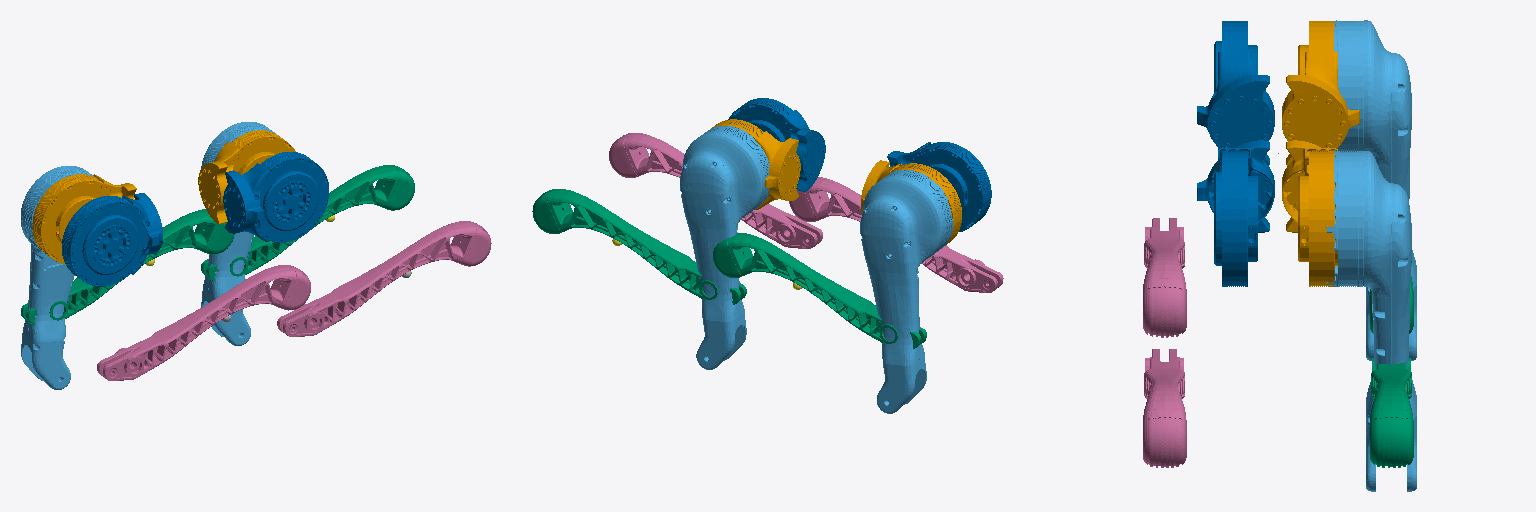
--- Facts derived from the render (not from the file) ---
Views: 3 orthographic renders of the robot side by side, from view 1: azimuth 30°, elevation 25°; view 2: azimuth 150°, elevation 25°; view 3: azimuth 270°, elevation 25°.
Robot: go2 — 20 links, 19 joints (12 revolute, 7 fixed); root link base; default pose: all joints at 0 but 4 set to mid-range because 0 is outside their limits (FR_calf_joint = -1.78, FL_calf_joint = -1.78, RR_calf_joint = -1.78, RL_calf_joint = -1.78).
Visible links, largest first — view 1: FR_hip, RR_hip, RR_calf, FR_calf, RL_thigh, FL_calf, RL_hip, RL_calf, FL_thigh, FL_hip; view 2: RL_thigh, FL_thigh, FL_calf, RL_calf, FR_calf, RR_calf, RR_hip, FR_hip, FL_hip, RL_hip; view 3: FL_thigh, RL_thigh, FR_hip, RR_hip, RL_hip, FL_hip, RR_calf, FR_calf, FL_calf.
Boxes of the visible links, x1,y1,x2,y2 form: FR_hip: [223, 152, 328, 242]; RR_hip: [62, 193, 162, 286]; RR_calf: [97, 265, 310, 380]; FR_calf: [277, 221, 491, 336]; RL_thigh: [21, 166, 95, 389]; FL_calf: [201, 165, 414, 280]; RL_hip: [32, 174, 136, 264]; RL_calf: [21, 209, 234, 324]; FL_thigh: [201, 122, 278, 345]; FL_hip: [198, 130, 295, 223]; RL_thigh: [860, 170, 953, 413]; FL_thigh: [680, 126, 769, 369]; FL_calf: [532, 189, 746, 304]; RL_calf: [713, 233, 926, 348]; FR_calf: [609, 133, 822, 248]; RR_calf: [789, 177, 1003, 292]; RR_hip: [887, 142, 991, 231]; FR_hip: [728, 98, 825, 191]; FL_hip: [711, 119, 800, 209]; RL_hip: [861, 160, 961, 245]; FL_thigh: [1326, 151, 1416, 491]; RL_thigh: [1334, 20, 1416, 360]; FR_hip: [1197, 140, 1274, 286]; RR_hip: [1197, 21, 1274, 165]; RL_hip: [1282, 21, 1359, 165]; FL_hip: [1282, 140, 1337, 286]; RR_calf: [1143, 218, 1186, 337]; FR_calf: [1143, 349, 1186, 467]; FL_calf: [1370, 358, 1413, 467].
Size in the robot's own frame: 0.8544 by 0.3435 by 0.4589 metres.
10 mesh visuals loaded from 6 distinct referenced files (3 Collada DAE); not drawn: 4 (reference not matched to a file when rendering).

URDF robot description (go2):
<?xml version="1.0" ?>
<!-- =================================================================================== -->
<!-- |    This document was autogenerated by xacro from robot.xacro                    | -->
<!-- |    EDITING THIS FILE BY HAND IS NOT RECOMMENDED                                 | -->
<!-- =================================================================================== -->
<robot name="go2">
  <material name="black">
    <color rgba="0.0 0.0 0.0 1.0"/>
  </material>
  <material name="blue">
    <color rgba="0.0 0.0 0.8 1.0"/>
  </material>
  <material name="green">
    <color rgba="0.0 0.8 0.0 1.0"/>
  </material>
  <material name="grey">
    <color rgba="0.2 0.2 0.2 0.0"/>
  </material>
  <material name="silver">
    <color rgba="0.9137254901960784 0.9137254901960784 0.8470588235294118 1.0"/>
  </material>
  <material name="orange">
    <color rgba="1.0 0.4235294117647059 0.0392156862745098 1.0"/>
  </material>
  <material name="brown">
    <color rgba="0.8705882352941177 0.8117647058823529 0.7647058823529411 1.0"/>
  </material>
  <material name="red">
    <color rgba="0.8 0.0 0.0 1.0"/>
  </material>
  <material name="white">
    <color rgba="1.0 1.0 1.0 1.0"/>
  </material>
  <!-- ros_control plugin -->
  <gazebo>
    <plugin filename="libgazebo_ros_control.so" name="gazebo_ros_control">
    <!--  <robotNamespace>/go2_gazebo</robotNamespace>
      <robotSimType>gazebo_ros_control/DefaultRobotHWSim</robotSimType> -->
    </plugin>
  </gazebo>
  <!-- Show the trajectory of trunk center. -->
  <!--gazebo>
        <plugin name="3dplot" filename="libLinkPlot3DPlugin.so">
            <frequency>10</frequency>
            <plot>
                <link>base</link>
                <pose>0 0 0 0 0 0</pose>
                <material>Gazebo/Yellow</material>
            </plot>
        </plugin>
    </gazebo-->
  <!-- Show the trajectory of foot. You can add another trajectory about another foot. 
  <gazebo>
    <plugin filename="libLinkPlot3DPlugin.so" name="3dplot">
      <frequency>100</frequency>
      <plot>
        <link>FL_foot</link>
        <pose>0 0 0 0 0 0</pose>
      </plot>
    </plugin>
  </gazebo> -->
  <gazebo>
    <plugin filename="libgazebo_ros_force.so" name="gazebo_ros_force">
      <bodyName>trunk</bodyName>
      <topicName>/apply_force/trunk</topicName>
    </plugin>
  </gazebo>
  <joint name="hokuyo_joint" type="fixed">
    <origin rpy="0 0 0" xyz="0.0 0.0 0.096"/>
    <parent link="trunk"/>
    <child link="hokuyo_frame"/>
  </joint>
  <link name="hokuyo_frame">
    <inertial>
      <mass value="0.270"/>
      <origin rpy="0 0 0" xyz="0 0 0"/>
      <inertia ixx="2.632e-4" ixy="0" ixz="0" iyy="2.632e-4" iyz="0" izz="1.62e-4"/>
    </inertial>
    <visual>
      <origin rpy="0 0 0" xyz="0 0 0"/>
      <geometry>
        <mesh filename="package://hector_sensors_description/meshes/hokuyo_utm30lx/hokuyo_utm_30lx.dae"/>
      </geometry>
    </visual>
    <collision>
      <origin rpy="0 0 0" xyz="0 0 -0.0115"/>
      <geometry>
        <box size="0.058 0.058 0.087"/>
        <!--<mesh filename="package://hector_sensors_description/meshes/hokuyo_utm30lx/hokuyo_utm_30lx.stl"/>-->
      </geometry>
    </collision>
  </link>
  <gazebo reference="hokuyo_frame">
    <sensor name="hokuyo" type="ray">
      <always_on>true</always_on>
      <update_rate>30</update_rate>
      <pose>0 0 0 0 0 0</pose>
      <visualize>false</visualize>
      <ray>
        <scan>
          <horizontal>
            <samples>1040</samples>
            <resolution>1</resolution>
            <min_angle>2.26892802759</min_angle>
            <max_angle>-2.26892802759</max_angle>
          </horizontal>
        </scan>
        <range>
          <min>0.2</min>
          <max>30.0</max>
          <resolution>0.01</resolution>
        </range>
        <noise>
          <type>gaussian</type>
          <mean>0.0</mean>
          <stddev>0.004</stddev>
        </noise>
      </ray>
      <plugin filename="libgazebo_ros_laser.so" name="gazebo_ros_hokuyo_controller">
        <topicName>scan</topicName>
        <frameName>hokuyo_frame</frameName>
      </plugin>
    </sensor>
  </gazebo>
  <gazebo reference="imu_link">
    <gravity>true</gravity>
    <sensor name="imu_sensor" type="imu">
      <always_on>true</always_on>
      <update_rate>1000</update_rate>
      <visualize>true</visualize>
      <topic>__default_topic__</topic>
      <plugin filename="libgazebo_ros_imu_sensor.so" name="imu_plugin">
        <topicName>trunk_imu</topicName>
        <bodyName>imu_link</bodyName>
        <updateRateHZ>1000.0</updateRateHZ>
        <gaussianNoise>0.0</gaussianNoise>
        <xyzOffset>0 0 0</xyzOffset>
        <rpyOffset>0 0 0</rpyOffset>
        <frameName>imu_link</frameName>
      </plugin>
      <pose>0 0 0 0 0 0</pose>
    </sensor>
  </gazebo>
  <!-- Foot contacts. -->
  <gazebo reference="FR_calf">
    <sensor name="FR_foot_contact" type="contact">
      <update_rate>100</update_rate>
      <plugin filename="libunitreeFootContactPlugin.so" name="contactPlugin"/>
      <contact>
        <collision>FR_calf_fixed_joint_lump__FR_foot_collision_1</collision>
      </contact>
    </sensor>
  </gazebo>
  <gazebo reference="FL_calf">
    <sensor name="FL_foot_contact" type="contact">
      <update_rate>100</update_rate>
      <plugin filename="libunitreeFootContactPlugin.so" name="contactPlugin"/>
      <contact>
        <collision>FL_calf_fixed_joint_lump__FL_foot_collision_1</collision>
      </contact>
    </sensor>
  </gazebo>
  <gazebo reference="RR_calf">
    <sensor name="RR_foot_contact" type="contact">
      <update_rate>100</update_rate>
      <plugin filename="libunitreeFootContactPlugin.so" name="contactPlugin"/>
      <contact>
        <collision>RR_calf_fixed_joint_lump__RR_foot_collision_1</collision>
      </contact>
    </sensor>
  </gazebo>
  <gazebo reference="RL_calf">
    <sensor name="RL_foot_contact" type="contact">
      <update_rate>100</update_rate>
      <plugin filename="libunitreeFootContactPlugin.so" name="contactPlugin"/>
      <contact>
        <collision>RL_calf_fixed_joint_lump__RL_foot_collision_1</collision>
      </contact>
    </sensor>
  </gazebo>
  <!-- Visualization of Foot contacts. -->
  <gazebo reference="FR_foot">
    <visual>
      <plugin filename="libunitreeDrawForcePlugin.so" name="drawForcePlugin">
        <topicName>FR_foot_contact</topicName>
      </plugin>
    </visual>
  </gazebo>
  <gazebo reference="FL_foot">
    <visual>
      <plugin filename="libunitreeDrawForcePlugin.so" name="drawForcePlugin">
        <topicName>FL_foot_contact</topicName>
      </plugin>
    </visual>
  </gazebo>
  <gazebo reference="RR_foot">
    <visual>
      <plugin filename="libunitreeDrawForcePlugin.so" name="drawForcePlugin">
        <topicName>RR_foot_contact</topicName>
      </plugin>
    </visual>
  </gazebo>
  <gazebo reference="RL_foot">
    <visual>
      <plugin filename="libunitreeDrawForcePlugin.so" name="drawForcePlugin">
        <topicName>RL_foot_contact</topicName>
      </plugin>
    </visual>
  </gazebo>
  <gazebo reference="base">
    <turnGravityOff>false</turnGravityOff>
  </gazebo>
  <gazebo reference="trunk">
    <mu1>0.2</mu1>
    <mu2>0.2</mu2>
    <kp value="1000000.0"/>
    <kd value="1.0"/>
  </gazebo>
  <gazebo reference="stick_link">
    <mu1>0.2</mu1>
    <mu2>0.2</mu2>
  </gazebo>
  <gazebo reference="imu_link">
    <mu1>0.2</mu1>
    <mu2>0.2</mu2>
  </gazebo>
  <!-- FL leg -->
  <gazebo reference="FL_hip">
    <mu1>0.2</mu1>
    <mu2>0.2</mu2>
  </gazebo>
  <gazebo reference="FL_thigh">
    <mu1>0.2</mu1>
    <mu2>0.2</mu2>
    <self_collide>1</self_collide>
    <kp value="1000000.0"/>
    <kd value="1.0"/>
  </gazebo>
  <gazebo reference="FL_calf">
    <mu1>0.2</mu1>
    <mu2>0.2</mu2>
    <self_collide>1</self_collide>
  </gazebo>
  <gazebo reference="FL_foot">
    <mu1>0.6</mu1>
    <mu2>0.6</mu2>
    <self_collide>1</self_collide>
    <kp value="1000000.0"/>
    <kd value="1.0"/>
  </gazebo>
  <!-- FR leg -->
  <gazebo reference="FR_hip">
    <mu1>0.2</mu1>
    <mu2>0.2</mu2>
  </gazebo>
  <gazebo reference="FR_thigh">
    <mu1>0.2</mu1>
    <mu2>0.2</mu2>
    <self_collide>1</self_collide>
    <kp value="1000000.0"/>
    <kd value="1.0"/>
  </gazebo>
  <gazebo reference="FR_calf">
    <mu1>0.2</mu1>
    <mu2>0.2</mu2>
    <self_collide>1</self_collide>
  </gazebo>
  <gazebo reference="FR_foot">
    <mu1>0.6</mu1>
    <mu2>0.6</mu2>
    <self_collide>1</self_collide>
    <kp value="1000000.0"/>
    <kd value="1.0"/>
  </gazebo>
  <!-- RL leg -->
  <gazebo reference="RL_hip">
    <mu1>0.2</mu1>
    <mu2>0.2</mu2>
  </gazebo>
  <gazebo reference="RL_thigh">
    <mu1>0.2</mu1>
    <mu2>0.2</mu2>
    <self_collide>1</self_collide>
    <kp value="1000000.0"/>
    <kd value="1.0"/>
  </gazebo>
  <gazebo reference="RL_calf">
    <mu1>0.2</mu1>
    <mu2>0.2</mu2>
    <self_collide>1</self_collide>
  </gazebo>
  <gazebo reference="RL_foot">
    <mu1>0.6</mu1>
    <mu2>0.6</mu2>
    <self_collide>1</self_collide>
    <kp value="1000000.0"/>
    <kd value="1.0"/>
  </gazebo>
  <!-- RR leg -->
  <gazebo reference="RR_hip">
    <mu1>0.2</mu1>
    <mu2>0.2</mu2>
  </gazebo>
  <gazebo reference="RR_thigh">
    <mu1>0.2</mu1>
    <mu2>0.2</mu2>
    <self_collide>1</self_collide>
    <kp value="1000000.0"/>
    <kd value="1.0"/>
  </gazebo>
  <gazebo reference="RR_calf">
    <mu1>0.2</mu1>
    <mu2>0.2</mu2>
    <self_collide>1</self_collide>
  </gazebo>
  <gazebo reference="RR_foot">
    <mu1>0.6</mu1>
    <mu2>0.6</mu2>
    <self_collide>1</self_collide>
    <kp value="1000000.0"/>
    <kd value="1.0"/>
  </gazebo>
  <!-- <xacro:include filename="$(find go2_gazebo)/launch/stairs.urdf.xacro"/> -->
  <!-- <xacro:stairs stairs="15" xpos="0" ypos="0" zpos="0" /> -->
  <!-- Rotor related joint and link is only for demonstrate location. -->
  <!-- Actually, the rotor will rotate and the joint is not fixed. Reduction ratio should be considered. -->
  <link name="base">
    <visual>
      <origin rpy="0 0 0" xyz="0 0 0"/>
      <geometry>
        <box size="0.001 0.001 0.001"/>
      </geometry>
    </visual>
  </link>
  <joint name="floating_base" type="fixed">
    <origin rpy="0 0 0" xyz="0 0 0"/>
    <parent link="base"/>
    <child link="trunk"/>
  </joint>
  <link name="trunk">
    <visual>
      <origin rpy="0 0 0" xyz="0 0 0"/>
      <geometry>
        <mesh filename="package://go2_description/meshes/trunk.dae" scale="1 1 1"/>
      </geometry>
      <!-- <material name="orange"/> -->
    </visual>
    <collision>
      <origin rpy="0 0 0" xyz="0 0 0"/>
      <geometry>
        <box size="0.3762 0.0935 0.114"/>
      </geometry>
    </collision>
    <inertial>
      <origin rpy="0 0 0" xyz="0.021112 0.0 -0.005366"/>
      <mass value="6.921"/>
      <inertia ixx="0.02448" ixy="0.00012166" ixz="0.0014849" iyy="0.098077" iyz="-3.12e-05" izz="0.107"/>
    </inertial>
  </link>
  <joint name="imu_joint" type="fixed">
    <parent link="trunk"/>
    <child link="imu_link"/>
    <origin rpy="0 0 0" xyz="0 0 0"/>
  </joint>
  <link name="imu_link">
    <inertial>
      <mass value="0.001"/>
      <origin rpy="0 0 0" xyz="0 0 0"/>
      <inertia ixx="0.0001" ixy="0" ixz="0" iyy="0.0001" iyz="0" izz="0.0001"/>
    </inertial>
    <visual>
      <origin rpy="0 0 0" xyz="0 0 0"/>
      <geometry>
        <box size="0.001 0.001 0.001"/>
      </geometry>
      <!-- <material name="red"/> -->
    </visual>
    <collision>
      <origin rpy="0 0 0" xyz="0 0 0"/>
      <geometry>
        <box size=".001 .001 .001"/>
      </geometry>
    </collision>
  </link>
  <joint name="FR_hip_joint" type="revolute">
    <origin rpy="0 0 0" xyz="0.1934 -0.0465 0"/>
    <parent link="trunk"/>
    <child link="FR_hip"/>
    <axis xyz="1 0 0"/>
    <dynamics damping="0.01" friction="0.2"/>
    <limit effort="23.7" lower="-1.0472" upper="1.0472" velocity="30.1"/>
  </joint>
  <link name="FR_hip">
    <visual>
      <origin rpy="3.141592653589793 0 0" xyz="0 0 0"/>
      <geometry>
        <mesh filename="package://go2_description/meshes/hip.dae" scale="1 1 1"/>
      </geometry>
      <!-- <material name="orange"/> -->
    </visual>
    <collision>
      <origin rpy="1.5707963267948966 0 0" xyz="0 -0.0955 0"/>
      <geometry>
        <cylinder length="0.04" radius="0.046"/>
      </geometry>
    </collision>
    <inertial>
      <origin rpy="0 0 0" xyz="-0.0054 -0.00194 -0.000105"/>
      <mass value="0.678"/>
      <inertia ixx="0.00048" ixy="3.01e-06" ixz="1.11e-06" iyy="0.000884" iyz="1.42e-06" izz="0.000596"/>
    </inertial>
  </link>
  <joint name="FR_thigh_joint" type="revolute">
    <origin rpy="0 0 0" xyz="0 -0.0955 0"/>
    <parent link="FR_hip"/>
    <child link="FR_thigh"/>
    <axis xyz="0 1 0"/>
    <dynamics damping="0.01" friction="0.2"/>
    <limit effort="23.7" lower="-1.5708" upper="3.4907" velocity="30.1"/>
  </joint>
  <link name="FR_thigh">
    <visual>
      <origin rpy="0 0 0" xyz="0 0 0"/>
      <geometry>
        <mesh filename="package://go2_description/meshes/thigh_mirror.dae" scale="1 1 1"/>
      </geometry>
      <!-- <material name="orange"/> -->
    </visual>
    <collision>
      <origin rpy="0 1.5707963267948966 0" xyz="0 0 -0.1065"/>
      <geometry>
        <box size="0.213 0.0245 0.034"/>
      </geometry>
    </collision>
    <inertial>
      <origin rpy="0 0 0" xyz="-0.00374 0.0223 -0.0327"/>
      <mass value="1.152"/>
      <inertia ixx="0.00584" ixy="-8.72e-05" ixz="-0.000289" iyy="0.0058" iyz="-0.000808" izz="0.00103"/>
    </inertial>
  </link>
  <joint name="FR_calf_joint" type="revolute">
    <origin rpy="0 0 0" xyz="0 0 -0.213"/>
    <parent link="FR_thigh"/>
    <child link="FR_calf"/>
    <axis xyz="0 1 0"/>
    <dynamics damping="0.01" friction="0.2"/>
    <limit effort="35.55" lower="-2.7227" upper="-0.83776" velocity="20.06"/>
  </joint>
  <link name="FR_calf">
    <visual>
      <origin rpy="0 0 0" xyz="0 0 0"/>
      <geometry>
        <mesh filename="package://go2_description/meshes/calf.dae" scale="1 1 1"/>
      </geometry>
      <!-- <material name="orange"/> -->
    </visual>
    <collision>
      <origin rpy="0 1.5707963267948966 0" xyz="0 0 -0.1065"/>
      <geometry>
        <box size="0.213 0.016 0.016"/>
      </geometry>
    </collision>
    <inertial>
      <origin rpy="0 0 0" xyz="0.00548 -0.000975 -0.115"/>
      <mass value="0.154"/>
      <inertia ixx="0.00108" ixy="3.4e-07" ixz="1.72e-05" iyy="0.0011" iyz="8.28e-06" izz="3.29e-05"/>
    </inertial>
  </link>
  <joint name="FR_foot_fixed" type="fixed">
    0
            
    <origin rpy="0 0 0" xyz="0 0 -0.213"/>
    <parent link="FR_calf"/>
    <child link="FR_foot"/>
  </joint>
  <link name="FR_foot">
    <visual>
      <origin rpy="0 0 0" xyz="0 0 0"/>
      <geometry>
        <sphere radius="0.01"/>
      </geometry>
      <!-- <material name="orange"/> -->
    </visual>
    <collision>
      <origin rpy="0 0 0" xyz="0 0 0"/>
      <geometry>
        <sphere radius="0.02"/>
      </geometry>
    </collision>
    <inertial>
      <mass value="0.06"/>
      <inertia ixx="9.600000000000001e-06" ixy="0.0" ixz="0.0" iyy="9.600000000000001e-06" iyz="0.0" izz="9.600000000000001e-06"/>
    </inertial>
  </link>
  <transmission name="FR_hip_tran">
    <type>transmission_interface/SimpleTransmission</type>
    <joint name="FR_hip_joint">
      <hardwareInterface>hardware_interface/EffortJointInterface</hardwareInterface>
    </joint>
    <actuator name="FR_hip_motor">
      <hardwareInterface>hardware_interface/EffortJointInterface</hardwareInterface>
      <mechanicalReduction>1</mechanicalReduction>
    </actuator>
  </transmission>
  <transmission name="FR_thigh_tran">
    <type>transmission_interface/SimpleTransmission</type>
    <joint name="FR_thigh_joint">
      <hardwareInterface>hardware_interface/EffortJointInterface</hardwareInterface>
    </joint>
    <actuator name="FR_thigh_motor">
      <hardwareInterface>hardware_interface/EffortJointInterface</hardwareInterface>
      <mechanicalReduction>1</mechanicalReduction>
    </actuator>
  </transmission>
  <transmission name="FR_calf_tran">
    <type>transmission_interface/SimpleTransmission</type>
    <joint name="FR_calf_joint">
      <hardwareInterface>hardware_interface/EffortJointInterface</hardwareInterface>
    </joint>
    <actuator name="FR_calf_motor">
      <hardwareInterface>hardware_interface/EffortJointInterface</hardwareInterface>
      <mechanicalReduction>1</mechanicalReduction>
    </actuator>
  </transmission>
  <joint name="FL_hip_joint" type="revolute">
    <origin rpy="0 0 0" xyz="0.1934 0.0465 0"/>
    <parent link="trunk"/>
    <child link="FL_hip"/>
    <axis xyz="1 0 0"/>
    <dynamics damping="0.01" friction="0.2"/>
    <limit effort="23.7" lower="-1.0472" upper="1.0472" velocity="30.1"/>
  </joint>
  <link name="FL_hip">
    <visual>
      <origin rpy="0 0 0" xyz="0 0 0"/>
      <geometry>
        <mesh filename="package://go2_description/meshes/hip.dae" scale="1 1 1"/>
      </geometry>
      <!-- <material name="orange"/> -->
    </visual>
    <collision>
      <origin rpy="1.5707963267948966 0 0" xyz="0 0.0955 0"/>
      <geometry>
        <cylinder length="0.04" radius="0.046"/>
      </geometry>
    </collision>
    <inertial>
      <origin rpy="0 0 0" xyz="-0.0054 0.00194 -0.000105"/>
      <mass value="0.678"/>
      <inertia ixx="0.00048" ixy="-3.01e-06" ixz="1.11e-06" iyy="0.000884" iyz="-1.42e-06" izz="0.000596"/>
    </inertial>
  </link>
  <joint name="FL_thigh_joint" type="revolute">
    <origin rpy="0 0 0" xyz="0 0.0955 0"/>
    <parent link="FL_hip"/>
    <child link="FL_thigh"/>
    <axis xyz="0 1 0"/>
    <dynamics damping="0.01" friction="0.2"/>
    <limit effort="23.7" lower="-1.5708" upper="3.4907" velocity="30.1"/>
  </joint>
  <link name="FL_thigh">
    <visual>
      <origin rpy="0 0 0" xyz="0 0 0"/>
      <geometry>
        <mesh filename="package://go2_description/meshes/thigh.dae" scale="1 1 1"/>
      </geometry>
      <!-- <material name="orange"/> -->
    </visual>
    <collision>
      <origin rpy="0 1.5707963267948966 0" xyz="0 0 -0.1065"/>
      <geometry>
        <box size="0.213 0.0245 0.034"/>
      </geometry>
    </collision>
    <inertial>
      <origin rpy="0 0 0" xyz="-0.00374 -0.0223 -0.0327"/>
      <mass value="1.152"/>
      <inertia ixx="0.00584" ixy="8.72e-05" ixz="-0.000289" iyy="0.0058" iyz="0.000808" izz="0.00103"/>
    </inertial>
  </link>
  <joint name="FL_calf_joint" type="revolute">
    <origin rpy="0 0 0" xyz="0 0 -0.213"/>
    <parent link="FL_thigh"/>
    <child link="FL_calf"/>
    <axis xyz="0 1 0"/>
    <dynamics damping="0.01" friction="0.2"/>
    <limit effort="35.55" lower="-2.7227" upper="-0.83776" velocity="20.06"/>
  </joint>
  <link name="FL_calf">
    <visual>
      <origin rpy="0 0 0" xyz="0 0 0"/>
      <geometry>
        <mesh filename="package://go2_description/meshes/calf.dae" scale="1 1 1"/>
      </geometry>
      <!-- <material name="orange"/> -->
    </visual>
    <collision>
      <origin rpy="0 1.5707963267948966 0" xyz="0 0 -0.1065"/>
      <geometry>
        <box size="0.213 0.016 0.016"/>
      </geometry>
    </collision>
    <inertial>
      <origin rpy="0 0 0" xyz="0.00548 -0.000975 -0.115"/>
      <mass value="0.154"/>
      <inertia ixx="0.00108" ixy="3.4e-07" ixz="1.72e-05" iyy="0.0011" iyz="8.28e-06" izz="3.29e-05"/>
    </inertial>
  </link>
  <joint name="FL_foot_fixed" type="fixed">
    0
            
    <origin rpy="0 0 0" xyz="0 0 -0.213"/>
    <parent link="FL_calf"/>
    <child link="FL_foot"/>
  </joint>
  <link name="FL_foot">
    <visual>
      <origin rpy="0 0 0" xyz="0 0 0"/>
      <geometry>
        <sphere radius="0.01"/>
      </geometry>
      <!-- <material name="orange"/> -->
    </visual>
    <collision>
      <origin rpy="0 0 0" xyz="0 0 0"/>
      <geometry>
        <sphere radius="0.02"/>
      </geometry>
    </collision>
    <inertial>
      <mass value="0.06"/>
      <inertia ixx="9.600000000000001e-06" ixy="0.0" ixz="0.0" iyy="9.600000000000001e-06" iyz="0.0" izz="9.600000000000001e-06"/>
    </inertial>
  </link>
  <transmission name="FL_hip_tran">
    <type>transmission_interface/SimpleTransmission</type>
    <joint name="FL_hip_joint">
      <hardwareInterface>hardware_interface/EffortJointInterface</hardwareInterface>
    </joint>
    <actuator name="FL_hip_motor">
      <hardwareInterface>hardware_interface/EffortJointInterface</hardwareInterface>
      <mechanicalReduction>1</mechanicalReduction>
    </actuator>
  </transmission>
  <transmission name="FL_thigh_tran">
    <type>transmission_interface/SimpleTransmission</type>
    <joint name="FL_thigh_joint">
      <hardwareInterface>hardware_interface/EffortJointInterface</hardwareInterface>
    </joint>
    <actuator name="FL_thigh_motor">
      <hardwareInterface>hardware_interface/EffortJointInterface</hardwareInterface>
      <mechanicalReduction>1</mechanicalReduction>
    </actuator>
  </transmission>
  <transmission name="FL_calf_tran">
    <type>transmission_interface/SimpleTransmission</type>
    <joint name="FL_calf_joint">
      <hardwareInterface>hardware_interface/EffortJointInterface</hardwareInterface>
    </joint>
    <actuator name="FL_calf_motor">
      <hardwareInterface>hardware_interface/EffortJointInterface</hardwareInterface>
      <mechanicalReduction>1</mechanicalReduction>
    </actuator>
  </transmission>
  <joint name="RR_hip_joint" type="revolute">
    <origin rpy="0 0 0" xyz="-0.1934 -0.0465 0"/>
    <parent link="trunk"/>
    <child link="RR_hip"/>
    <axis xyz="1 0 0"/>
    <dynamics damping="0.01" friction="0.2"/>
    <limit effort="23.7" lower="-1.0472" upper="1.0472" velocity="30.1"/>
  </joint>
  <link name="RR_hip">
    <visual>
      <origin rpy="3.141592653589793 3.141592653589793 0" xyz="0 0 0"/>
      <geometry>
        <mesh filename="package://go2_description/meshes/hip.dae" scale="1 1 1"/>
      </geometry>
      <!-- <material name="orange"/> -->
    </visual>
    <collision>
      <origin rpy="1.5707963267948966 0 0" xyz="0 -0.0955 0"/>
      <geometry>
        <cylinder length="0.04" radius="0.046"/>
      </geometry>
    </collision>
    <inertial>
      <origin rpy="0 0 0" xyz="0.0054 -0.00194 -0.000105"/>
      <mass value="0.678"/>
      <inertia ixx="0.00048" ixy="-3.01e-06" ixz="-1.11e-06" iyy="0.000884" iyz="1.42e-06" izz="0.000596"/>
    </inertial>
  </link>
  <joint name="RR_thigh_joint" type="revolute">
    <origin rpy="0 0 0" xyz="0 -0.0955 0"/>
    <parent link="RR_hip"/>
    <child link="RR_thigh"/>
    <axis xyz="0 1 0"/>
    <dynamics damping="0.01" friction="0.2"/>
    <limit effort="23.7" lower="-1.5708" upper="3.4907" velocity="30.1"/>
  </joint>
  <link name="RR_thigh">
    <visual>
      <origin rpy="0 0 0" xyz="0 0 0"/>
      <geometry>
        <mesh filename="package://go2_description/meshes/thigh_mirror.dae" scale="1 1 1"/>
      </geometry>
      <!-- <material name="orange"/> -->
    </visual>
    <collision>
      <origin rpy="0 1.5707963267948966 0" xyz="0 0 -0.1065"/>
      <geometry>
        <box size="0.213 0.0245 0.034"/>
      </geometry>
    </collision>
    <inertial>
      <origin rpy="0 0 0" xyz="-0.00374 0.0223 -0.0327"/>
      <mass value="1.152"/>
      <inertia ixx="0.00584" ixy="-8.72e-05" ixz="-0.000289" iyy="0.0058" iyz="-0.000808" izz="0.00103"/>
    </inertial>
  </link>
  <joint name="RR_calf_joint" type="revolute">
    <origin rpy="0 0 0" xyz="0 0 -0.213"/>
    <parent link="RR_thigh"/>
    <child link="RR_calf"/>
    <axis xyz="0 1 0"/>
    <dynamics damping="0.01" friction="0.2"/>
    <limit effort="35.55" lower="-2.7227" upper="-0.83776" velocity="20.06"/>
  </joint>
  <link name="RR_calf">
    <visual>
      <origin rpy="0 0 0" xyz="0 0 0"/>
      <geometry>
        <mesh filename="package://go2_description/meshes/calf.dae" scale="1 1 1"/>
      </geometry>
      <!-- <material name="orange"/> -->
    </visual>
    <collision>
      <origin rpy="0 1.5707963267948966 0" xyz="0 0 -0.1065"/>
      <geometry>
        <box size="0.213 0.016 0.016"/>
      </geometry>
    </collision>
    <inertial>
      <origin rpy="0 0 0" xyz="0.00548 -0.000975 -0.115"/>
      <mass value="0.154"/>
      <inertia ixx="0.00108" ixy="3.4e-07" ixz="1.72e-05" iyy="0.0011" iyz="8.28e-06" izz="3.29e-05"/>
    </inertial>
  </link>
  <joint name="RR_foot_fixed" type="fixed">
    0
            
    <origin rpy="0 0 0" xyz="0 0 -0.213"/>
    <parent link="RR_calf"/>
    <child link="RR_foot"/>
  </joint>
  <link name="RR_foot">
    <visual>
      <origin rpy="0 0 0" xyz="0 0 0"/>
      <geometry>
        <sphere radius="0.01"/>
      </geometry>
      <!-- <material name="orange"/> -->
    </visual>
    <collision>
      <origin rpy="0 0 0" xyz="0 0 0"/>
      <geometry>
        <sphere radius="0.02"/>
      </geometry>
    </collision>
    <inertial>
      <mass value="0.06"/>
      <inertia ixx="9.600000000000001e-06" ixy="0.0" ixz="0.0" iyy="9.600000000000001e-06" iyz="0.0" izz="9.600000000000001e-06"/>
    </inertial>
  </link>
  <transmission name="RR_hip_tran">
    <type>transmission_interface/SimpleTransmission</type>
    <joint name="RR_hip_joint">
      <hardwareInterface>hardware_interface/EffortJointInterface</hardwareInterface>
    </joint>
    <actuator name="RR_hip_motor">
      <hardwareInterface>hardware_interface/EffortJointInterface</hardwareInterface>
      <mechanicalReduction>1</mechanicalReduction>
    </actuator>
  </transmission>
  <transmission name="RR_thigh_tran">
    <type>transmission_interface/SimpleTransmission</type>
    <joint name="RR_thigh_joint">
      <hardwareInterface>hardware_interface/EffortJointInterface</hardwareInterface>
    </joint>
    <actuator name="RR_thigh_motor">
      <hardwareInterface>hardware_interface/EffortJointInterface</hardwareInterface>
      <mechanicalReduction>1</mechanicalReduction>
    </actuator>
  </transmission>
  <transmission name="RR_calf_tran">
    <type>transmission_interface/SimpleTransmission</type>
    <joint name="RR_calf_joint">
      <hardwareInterface>hardware_interface/EffortJointInterface</hardwareInterface>
    </joint>
    <actuator name="RR_calf_motor">
      <hardwareInterface>hardware_interface/EffortJointInterface</hardwareInterface>
      <mechanicalReduction>1</mechanicalReduction>
    </actuator>
  </transmission>
  <joint name="RL_hip_joint" type="revolute">
    <origin rpy="0 0 0" xyz="-0.1934 0.0465 0"/>
    <parent link="trunk"/>
    <child link="RL_hip"/>
    <axis xyz="1 0 0"/>
    <dynamics damping="0.01" friction="0.2"/>
    <limit effort="23.7" lower="-1.0472" upper="1.0472" velocity="30.1"/>
  </joint>
  <link name="RL_hip">
    <visual>
      <origin rpy="0 3.141592653589793 0" xyz="0 0 0"/>
      <geometry>
        <mesh filename="package://go2_description/meshes/hip.dae" scale="1 1 1"/>
      </geometry>
      <!-- <material name="orange"/> -->
    </visual>
    <collision>
      <origin rpy="1.5707963267948966 0 0" xyz="0 0.0955 0"/>
      <geometry>
        <cylinder length="0.04" radius="0.046"/>
      </geometry>
    </collision>
    <inertial>
      <origin rpy="0 0 0" xyz="0.0054 0.00194 -0.000105"/>
      <mass value="0.678"/>
      <inertia ixx="0.00048" ixy="3.01e-06" ixz="-1.11e-06" iyy="0.000884" iyz="-1.42e-06" izz="0.000596"/>
    </inertial>
  </link>
  <joint name="RL_thigh_joint" type="revolute">
    <origin rpy="0 0 0" xyz="0 0.0955 0"/>
    <parent link="RL_hip"/>
    <child link="RL_thigh"/>
    <axis xyz="0 1 0"/>
    <dynamics damping="0.01" friction="0.2"/>
    <limit effort="23.7" lower="-1.5708" upper="3.4907" velocity="30.1"/>
  </joint>
  <link name="RL_thigh">
    <visual>
      <origin rpy="0 0 0" xyz="0 0 0"/>
      <geometry>
        <mesh filename="package://go2_description/meshes/thigh.dae" scale="1 1 1"/>
      </geometry>
      <!-- <material name="orange"/> -->
    </visual>
    <collision>
      <origin rpy="0 1.5707963267948966 0" xyz="0 0 -0.1065"/>
      <geometry>
        <box size="0.213 0.0245 0.034"/>
      </geometry>
    </collision>
    <inertial>
      <origin rpy="0 0 0" xyz="-0.00374 -0.0223 -0.0327"/>
      <mass value="1.152"/>
      <inertia ixx="0.00584" ixy="8.72e-05" ixz="-0.000289" iyy="0.0058" iyz="0.000808" izz="0.00103"/>
    </inertial>
  </link>
  <joint name="RL_calf_joint" type="revolute">
    <origin rpy="0 0 0" xyz="0 0 -0.213"/>
    <parent link="RL_thigh"/>
    <child link="RL_calf"/>
    <axis xyz="0 1 0"/>
    <dynamics damping="0.01" friction="0.2"/>
    <limit effort="35.55" lower="-2.7227" upper="-0.83776" velocity="20.06"/>
  </joint>
  <link name="RL_calf">
    <visual>
      <origin rpy="0 0 0" xyz="0 0 0"/>
      <geometry>
        <mesh filename="package://go2_description/meshes/calf.dae" scale="1 1 1"/>
      </geometry>
      <!-- <material name="orange"/> -->
    </visual>
    <collision>
      <origin rpy="0 1.5707963267948966 0" xyz="0 0 -0.1065"/>
      <geometry>
        <box size="0.213 0.016 0.016"/>
      </geometry>
    </collision>
    <inertial>
      <origin rpy="0 0 0" xyz="0.00548 -0.000975 -0.115"/>
      <mass value="0.154"/>
      <inertia ixx="0.00108" ixy="3.4e-07" ixz="1.72e-05" iyy="0.0011" iyz="8.28e-06" izz="3.29e-05"/>
    </inertial>
  </link>
  <joint name="RL_foot_fixed" type="fixed">
    0
            
    <origin rpy="0 0 0" xyz="0 0 -0.213"/>
    <parent link="RL_calf"/>
    <child link="RL_foot"/>
  </joint>
  <link name="RL_foot">
    <visual>
      <origin rpy="0 0 0" xyz="0 0 0"/>
      <geometry>
        <sphere radius="0.01"/>
      </geometry>
      <!-- <material name="orange"/> -->
    </visual>
    <collision>
      <origin rpy="0 0 0" xyz="0 0 0"/>
      <geometry>
        <sphere radius="0.02"/>
      </geometry>
    </collision>
    <inertial>
      <mass value="0.06"/>
      <inertia ixx="9.600000000000001e-06" ixy="0.0" ixz="0.0" iyy="9.600000000000001e-06" iyz="0.0" izz="9.600000000000001e-06"/>
    </inertial>
  </link>
  <transmission name="RL_hip_tran">
    <type>transmission_interface/SimpleTransmission</type>
    <joint name="RL_hip_joint">
      <hardwareInterface>hardware_interface/EffortJointInterface</hardwareInterface>
    </joint>
    <actuator name="RL_hip_motor">
      <hardwareInterface>hardware_interface/EffortJointInterface</hardwareInterface>
      <mechanicalReduction>1</mechanicalReduction>
    </actuator>
  </transmission>
  <transmission name="RL_thigh_tran">
    <type>transmission_interface/SimpleTransmission</type>
    <joint name="RL_thigh_joint">
      <hardwareInterface>hardware_interface/EffortJointInterface</hardwareInterface>
    </joint>
    <actuator name="RL_thigh_motor">
      <hardwareInterface>hardware_interface/EffortJointInterface</hardwareInterface>
      <mechanicalReduction>1</mechanicalReduction>
    </actuator>
  </transmission>
  <transmission name="RL_calf_tran">
    <type>transmission_interface/SimpleTransmission</type>
    <joint name="RL_calf_joint">
      <hardwareInterface>hardware_interface/EffortJointInterface</hardwareInterface>
    </joint>
    <actuator name="RL_calf_motor">
      <hardwareInterface>hardware_interface/EffortJointInterface</hardwareInterface>
      <mechanicalReduction>1</mechanicalReduction>
    </actuator>
  </transmission>
</robot>
